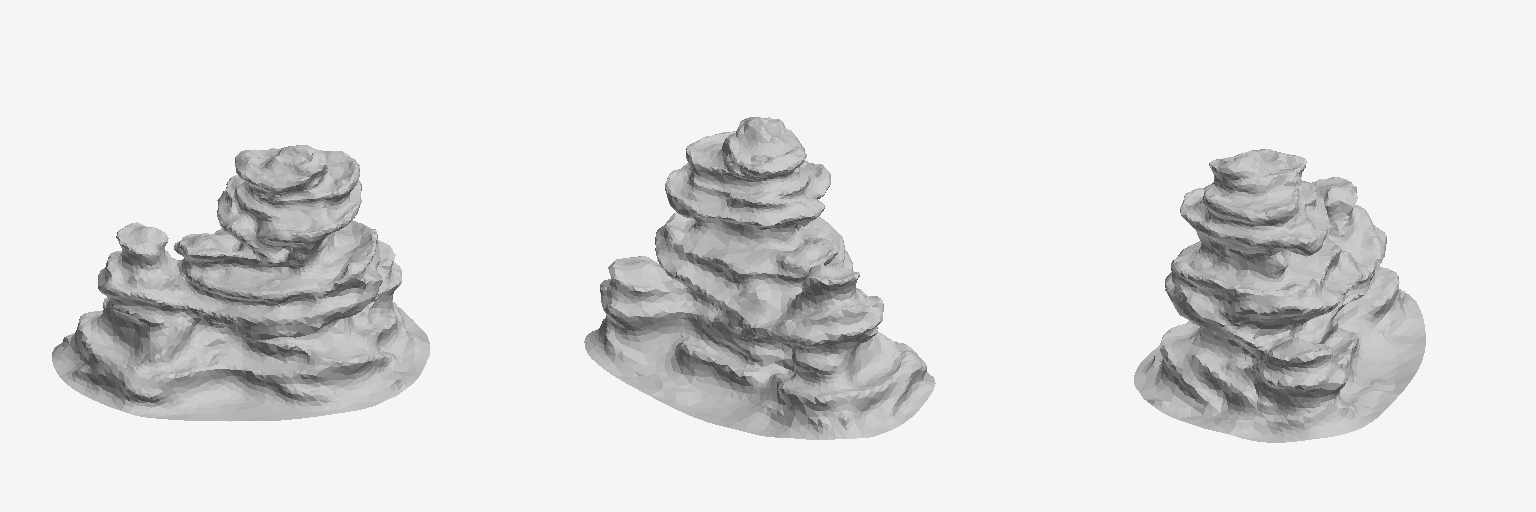
Rendered from LargeCaveRock_Obj.obj.
The picture shows the model from 3 angles: view 1: azimuth 30°, elevation 25°; view 2: azimuth 150°, elevation 25°; view 3: azimuth 270°, elevation 25°; orthographic projection.
Parts seen in each view (by area): view 1: LargeCaveRock; view 2: LargeCaveRock; view 3: LargeCaveRock.
Part boxes in pixels (x1,y1,x2,y2): LargeCaveRock: (52, 145, 429, 421); LargeCaveRock: (584, 117, 935, 439); LargeCaveRock: (1134, 149, 1425, 442).
Size of the model in its own units: 133 by 90.47 by 104.